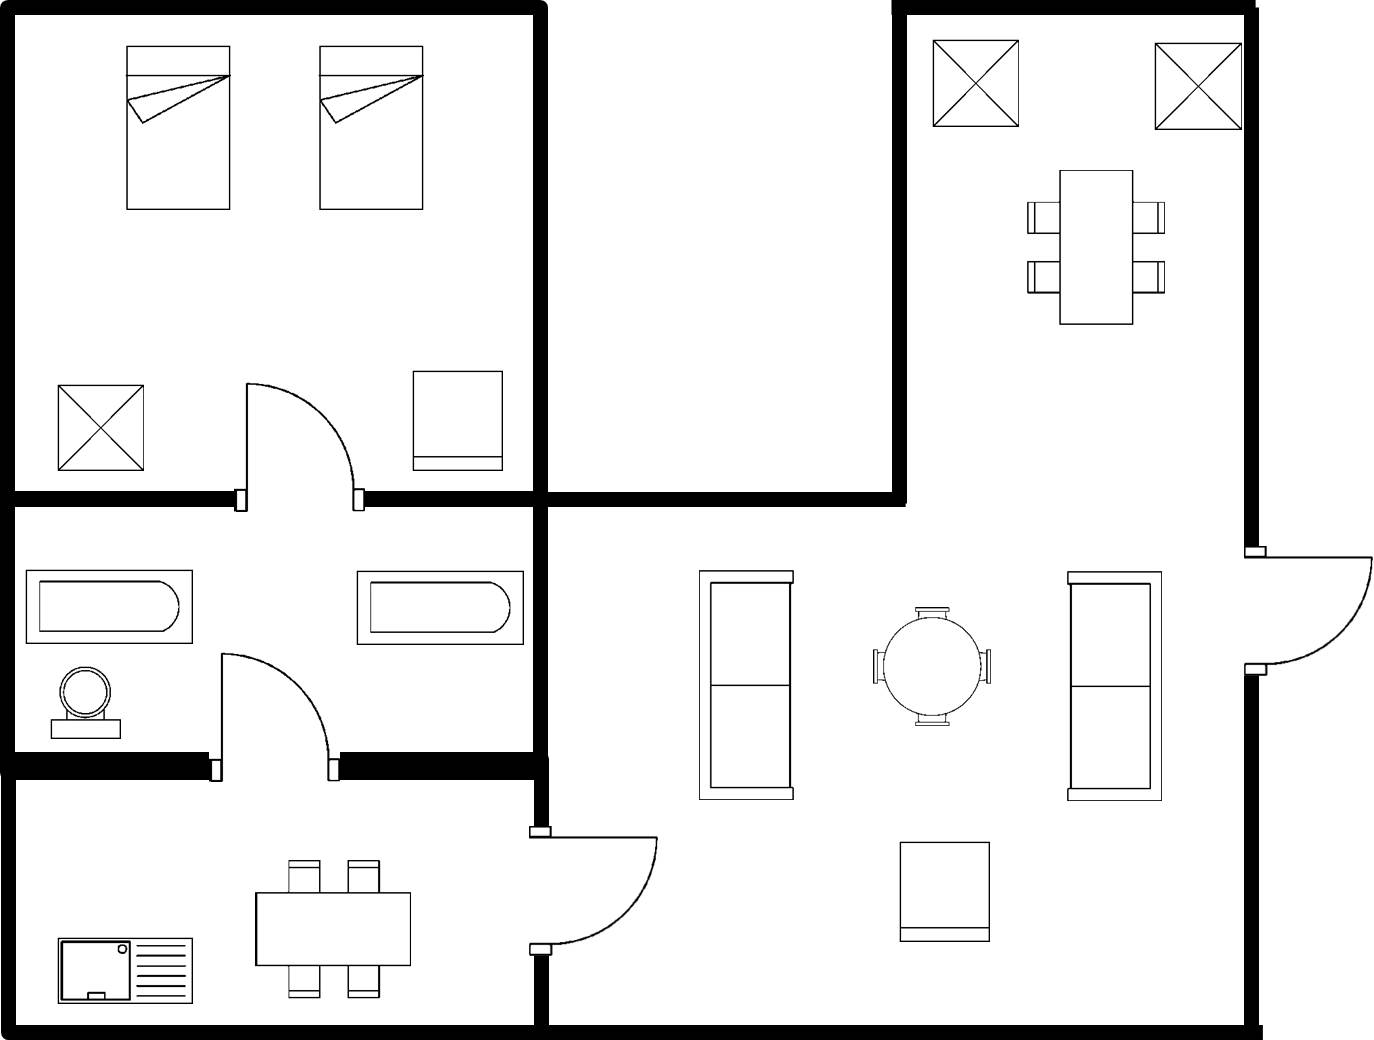bed: (310, 40, 429, 217), (121, 38, 237, 218)
coffee_table: (925, 34, 1028, 131), (1149, 36, 1246, 136), (52, 380, 151, 477)
dining_table: (247, 852, 419, 1004), (1021, 162, 1172, 331)
large_sink: (38, 659, 136, 747)
large_sofa: (1061, 562, 1172, 811), (693, 561, 804, 806)
round_table: (864, 598, 1001, 732)
sink: (51, 930, 198, 1010)
small_sofa: (892, 834, 997, 952), (407, 366, 511, 477)
tub: (350, 562, 530, 654), (19, 563, 199, 651)
